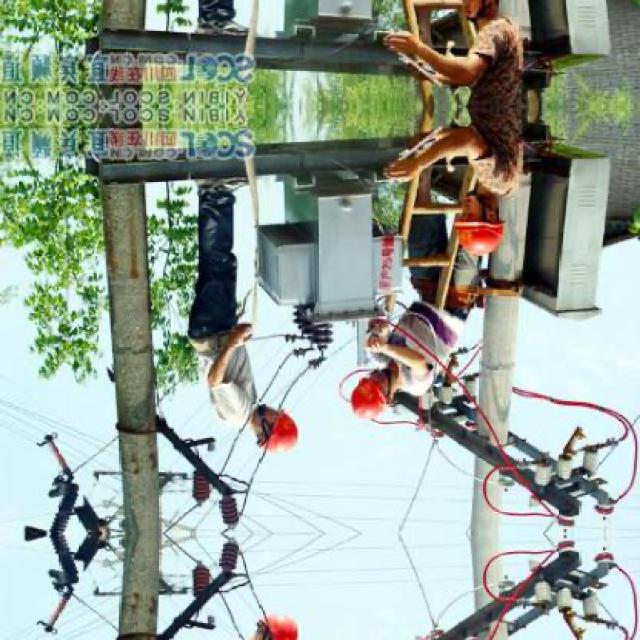con casco: (298, 353, 404, 422), (237, 390, 301, 464), (455, 185, 507, 248)
